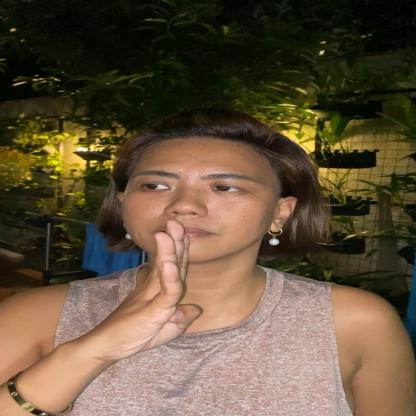Talk: (89, 108, 355, 360)
